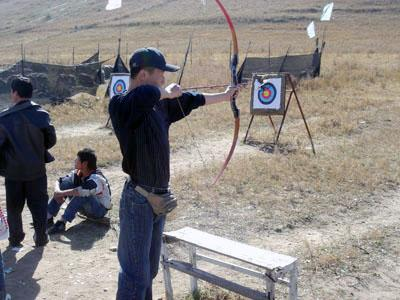person: (109, 47, 242, 300)
